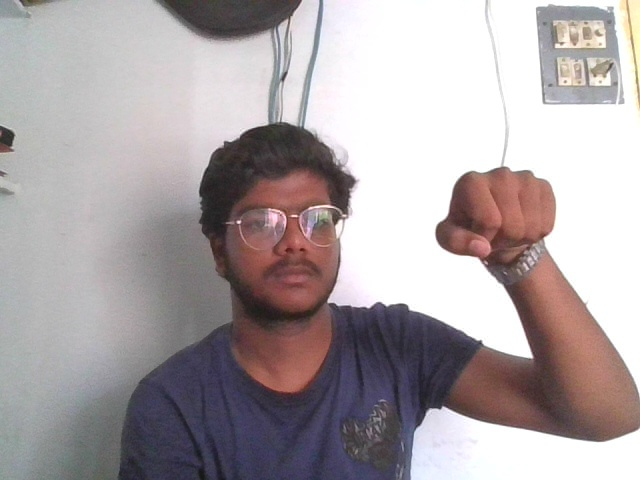Yes: (429, 161, 562, 264)
